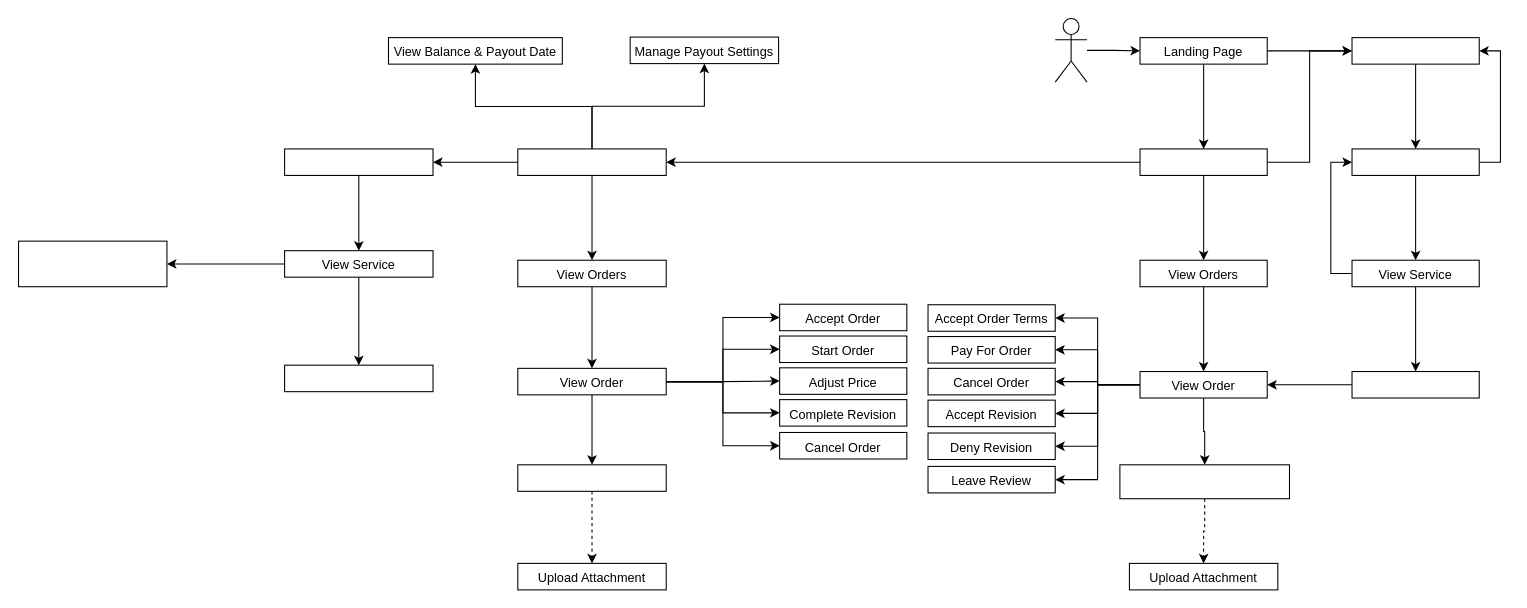
The diagram is 1527 pixels wide and 608 high, and some of its shapes have lost their labels. Each missing label, with the centre of its shape:
Delete Service: the point at 358,378
Discover Artists: the point at 1415,50
Edit Service Details (price,name,description): the point at 92,263
Login: the point at 1203,161
Purchase Service: the point at 1415,384
Send Message To Buyer: the point at 591,477
Send Message To Seller: the point at 1204,481
User: the point at 1070,49
View Artist: the point at 1415,161
View Seller Dashboard: the point at 591,161
View Services: the point at 358,161
